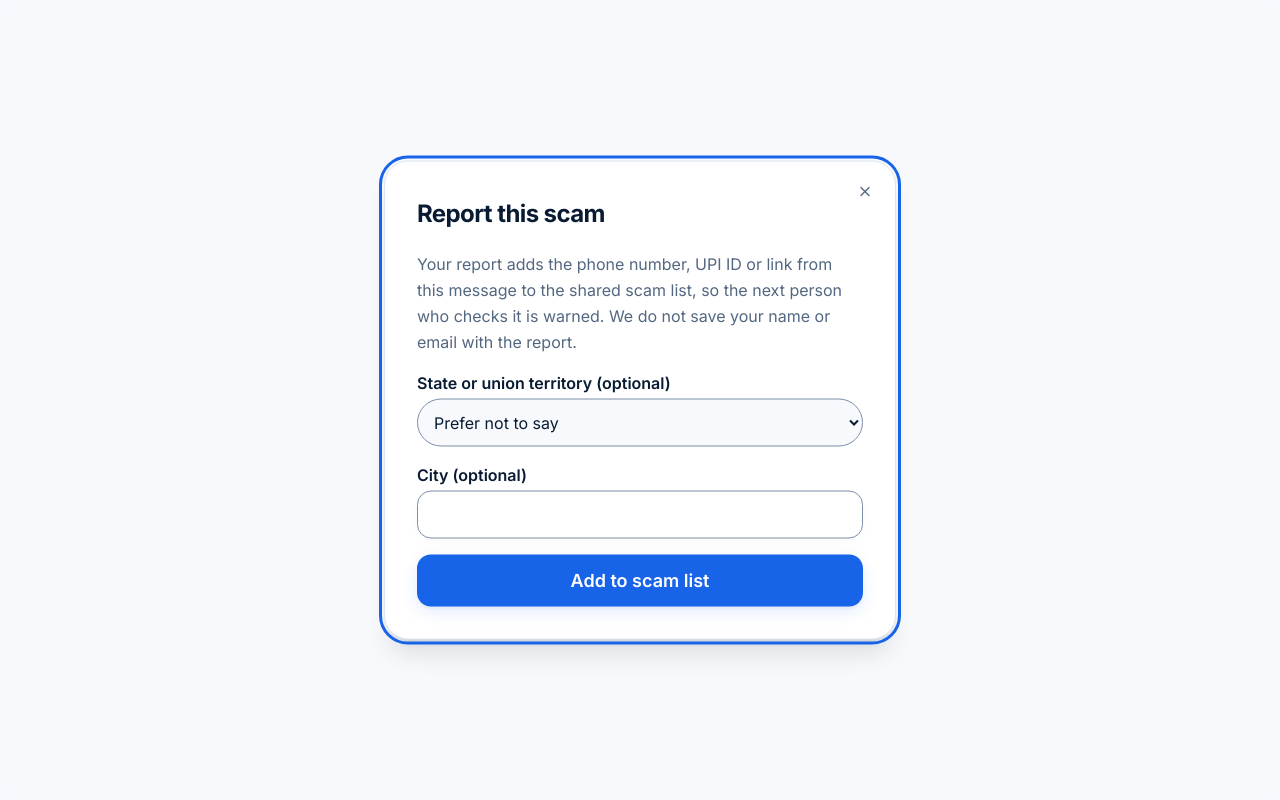
Scenario: ReportDialog › shows a friendly error when the report fails and lets the person retry
Click the button "Add to scam list" at (640,580), box [417,554,863,606]
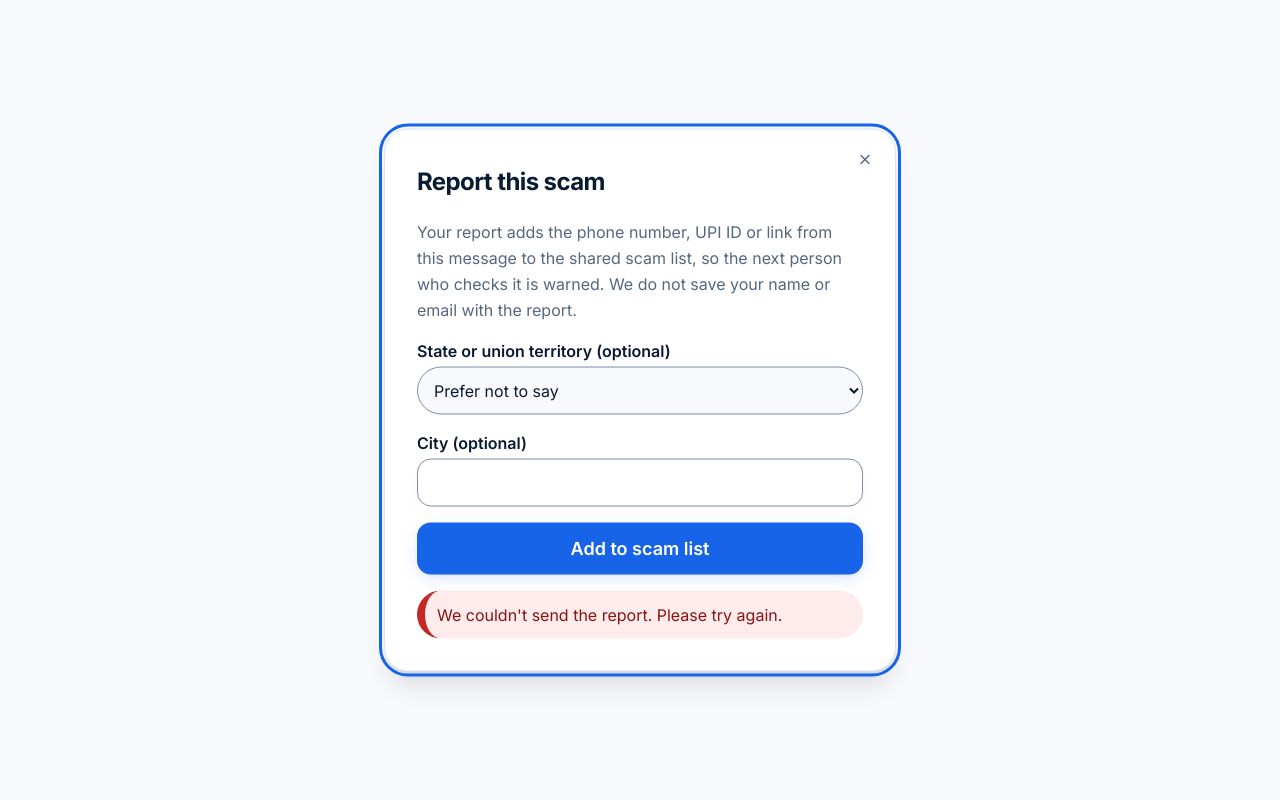
Expected: the button "Add to scam list" is enabled, [417,522,863,574]
Result: the message shows "couldn't send the report" at [437,604,782,624]
